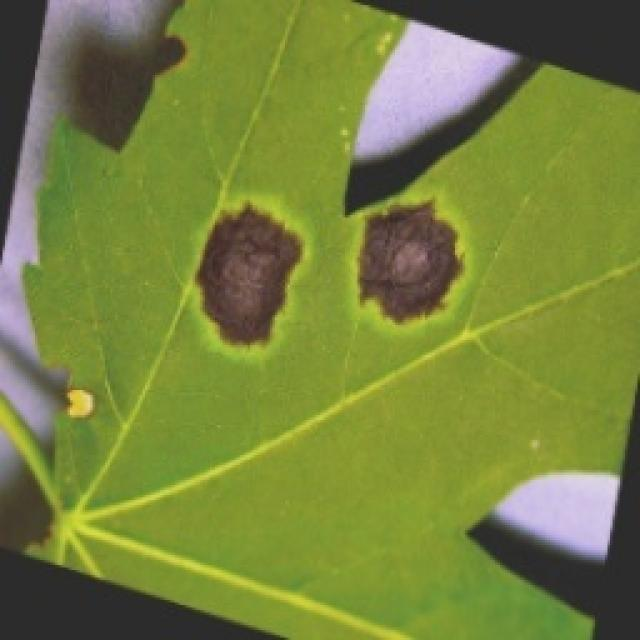Tar_Spot: (0, 0, 638, 638), (170, 126, 539, 356)
